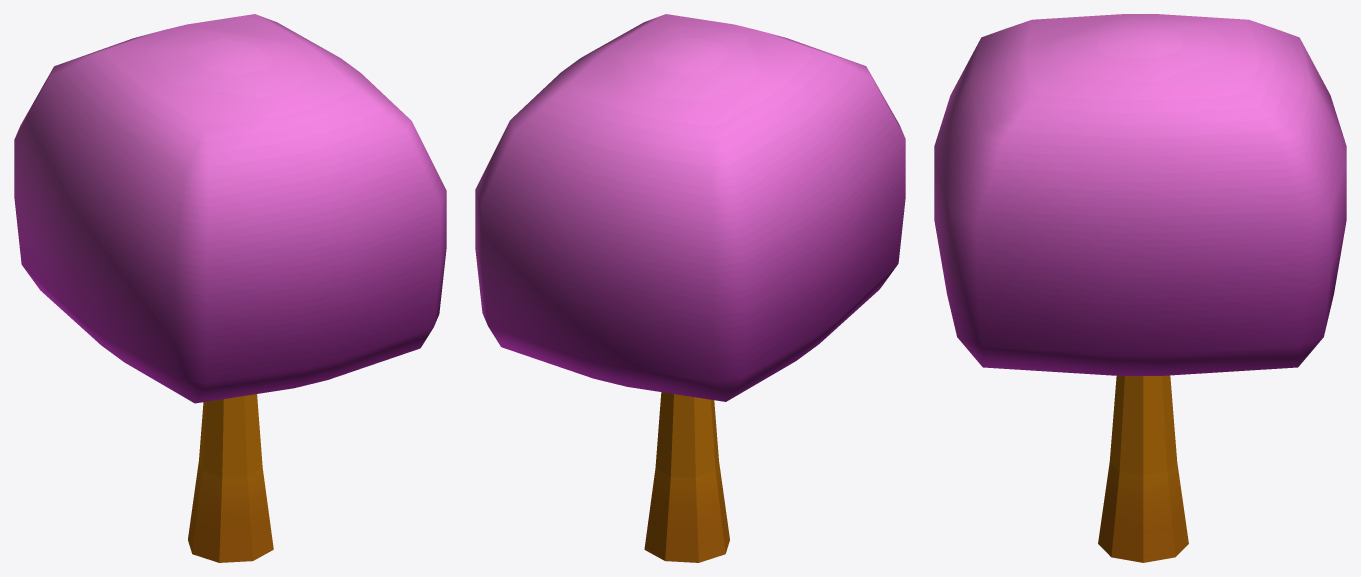
File: mini-1-pink.fbx
3 views of the same model, side by side, from view 1: azimuth 30°, elevation 25°; view 2: azimuth 150°, elevation 25°; view 3: azimuth 270°, elevation 25° (orthographic). The views are drawn at different scales.
Parts seen in each view (by area): view 1: Cylinder.004; view 2: Cylinder.004; view 3: Cylinder.004.
Part boxes in pixels (bbox=[...]): Cylinder.004: bbox=[14, 14, 446, 562]; Cylinder.004: bbox=[475, 14, 905, 562]; Cylinder.004: bbox=[934, 14, 1346, 562].
Bounding box in the file's own units: 32.54 × 51.98 × 38.56.
